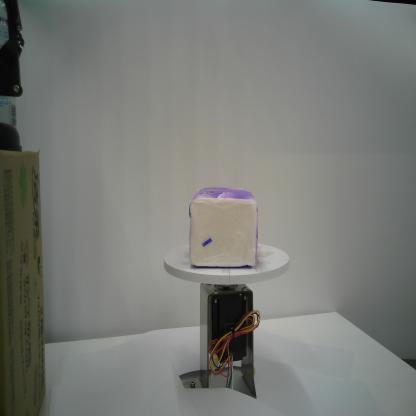Tissue: (186, 184, 261, 270)
